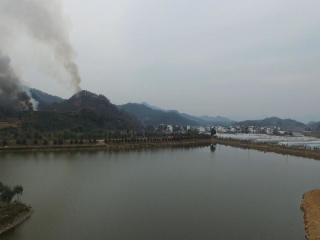smoke: (1, 20, 87, 114)
